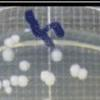white: (0, 47, 18, 64), (49, 48, 64, 63), (17, 59, 33, 73), (16, 73, 29, 90), (68, 62, 81, 79), (2, 37, 17, 49), (78, 66, 88, 82), (39, 69, 50, 83), (43, 75, 55, 87), (9, 74, 20, 87), (47, 71, 58, 82), (10, 34, 21, 44), (1, 79, 11, 89), (4, 86, 14, 95), (23, 28, 34, 34), (0, 79, 4, 91)
